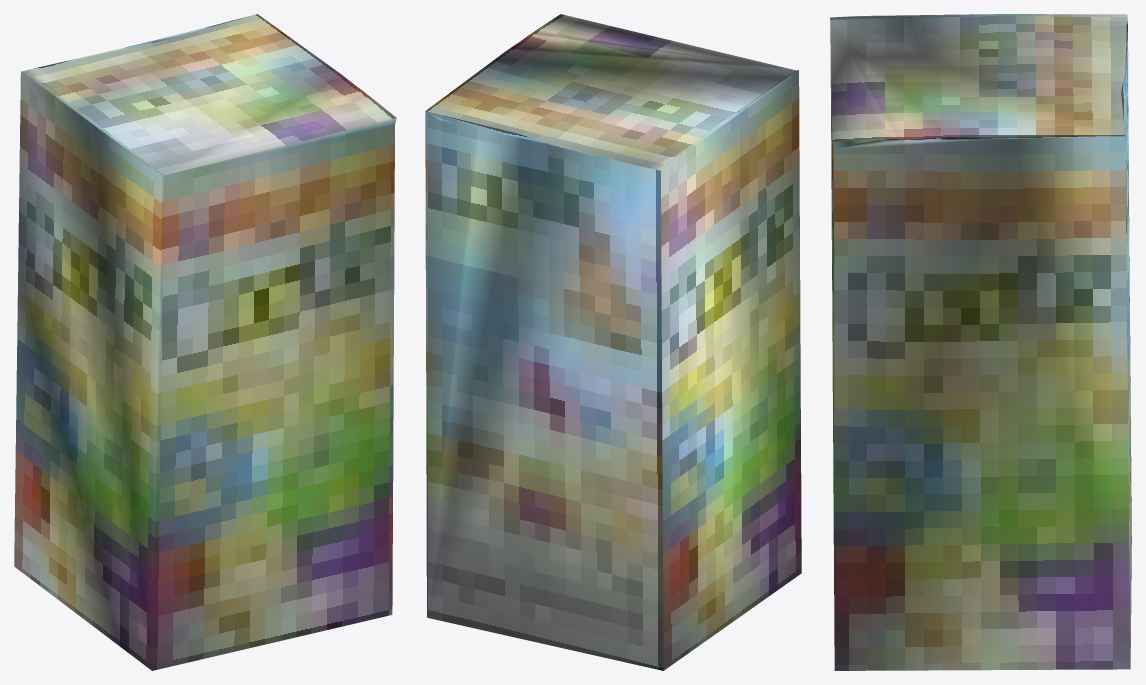
The model's file is Cootie_Game_tDhURNbfU5J-low.glb.
3 renders of one model, left to right at view 1: azimuth 30°, elevation 25°; view 2: azimuth 150°, elevation 25°; view 3: azimuth 270°, elevation 25°, orthographic. The views are drawn at different scales.
Parts seen in each view (by area): view 1: Cootie_Game_tDhURNbfU5J; view 2: Cootie_Game_tDhURNbfU5J; view 3: Cootie_Game_tDhURNbfU5J.
Part boxes in pixels (bbox=[...]): Cootie_Game_tDhURNbfU5J: bbox=[14, 14, 396, 670]; Cootie_Game_tDhURNbfU5J: bbox=[425, 14, 801, 670]; Cootie_Game_tDhURNbfU5J: bbox=[830, 14, 1131, 670].
Bounding box in the file's own units: 0.1359 × 0.2684 × 0.1371.
Materials: 1 (1 with a texture image).
